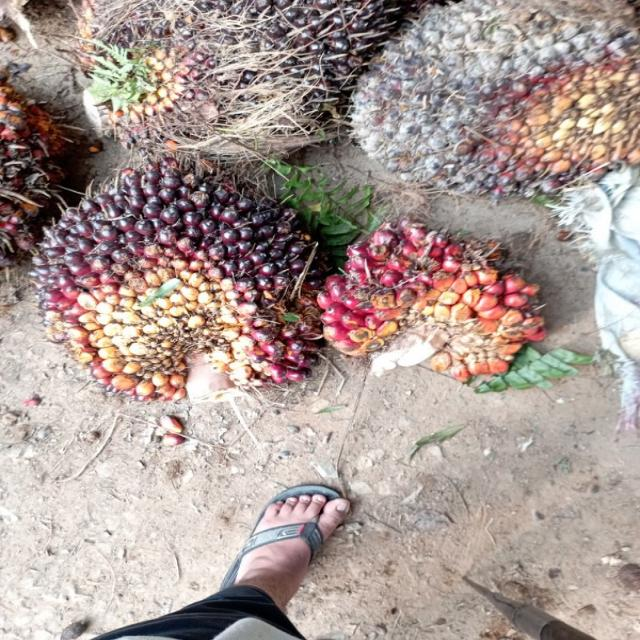fraksi 00: (20, 162, 355, 410), (346, 4, 640, 200), (82, 5, 375, 154)
fraksi 3: (322, 225, 552, 378)
